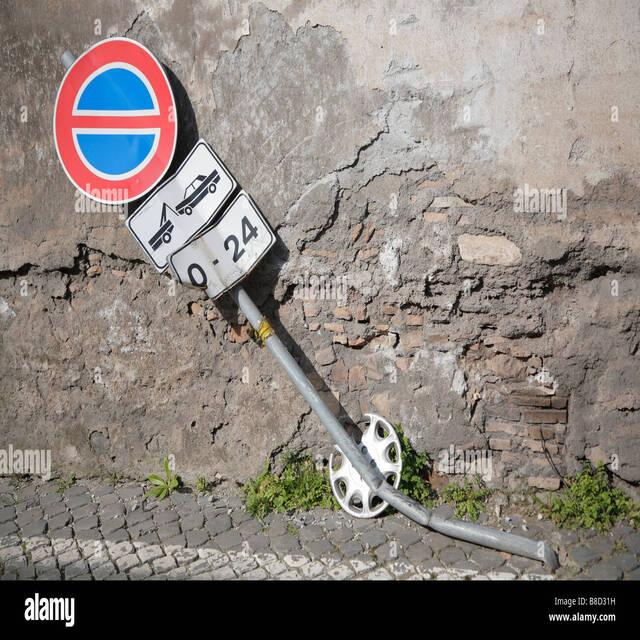Inclined Pole: (41, 11, 582, 572)
